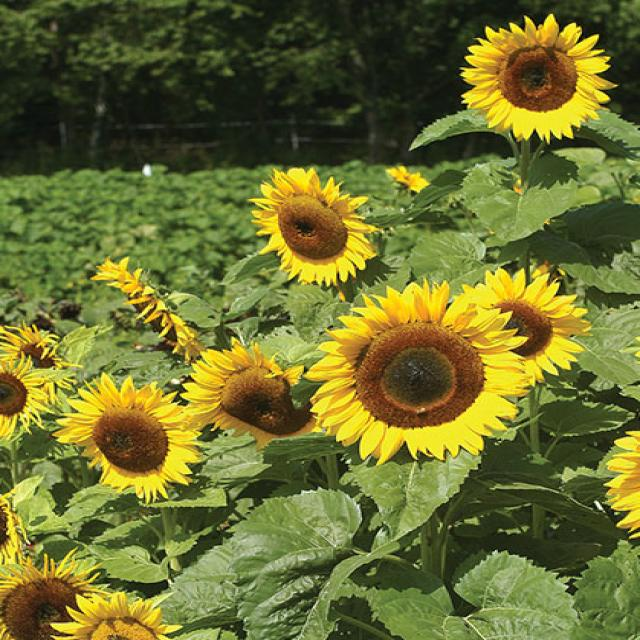sunflower: (311, 278, 540, 462), (455, 14, 619, 144), (48, 373, 213, 500), (177, 332, 336, 452), (250, 162, 384, 285), (458, 264, 590, 388), (90, 256, 220, 374), (0, 546, 121, 640), (49, 588, 182, 640), (0, 323, 76, 388), (0, 349, 52, 439)
